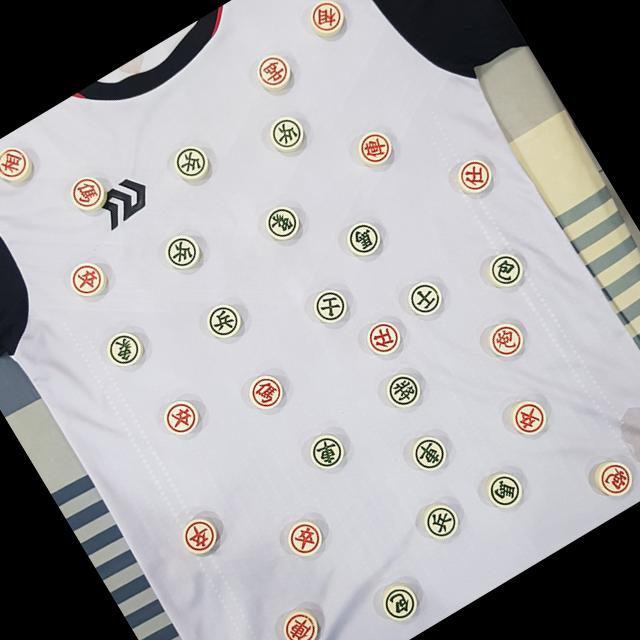black-advisor: (296, 262, 376, 342), (388, 250, 468, 330)
black-cannon: (472, 230, 552, 310), (360, 562, 440, 640)
black-chariot: (288, 414, 368, 494), (390, 409, 470, 489)
black-elephant: (248, 185, 328, 265), (89, 315, 160, 385)
black-general: (364, 346, 444, 426)
black-horse: (468, 452, 548, 532), (326, 194, 406, 274)
black-soldier: (193, 284, 273, 364), (147, 208, 227, 288), (158, 124, 238, 204), (408, 484, 488, 564), (251, 91, 331, 171)
red-advisor: (348, 297, 428, 377), (436, 133, 516, 213)
red-cannon: (474, 300, 554, 380), (573, 436, 640, 516)
red-chariot: (341, 114, 421, 194), (264, 593, 344, 640)
red-elephant: (0, 126, 59, 206), (293, 0, 373, 57)
red-general: (241, 30, 321, 110)
red-horse: (58, 152, 138, 232), (232, 352, 312, 432)
red-soldier: (496, 382, 576, 462), (264, 496, 344, 576), (162, 498, 242, 578), (140, 374, 220, 454), (49, 240, 129, 320)
